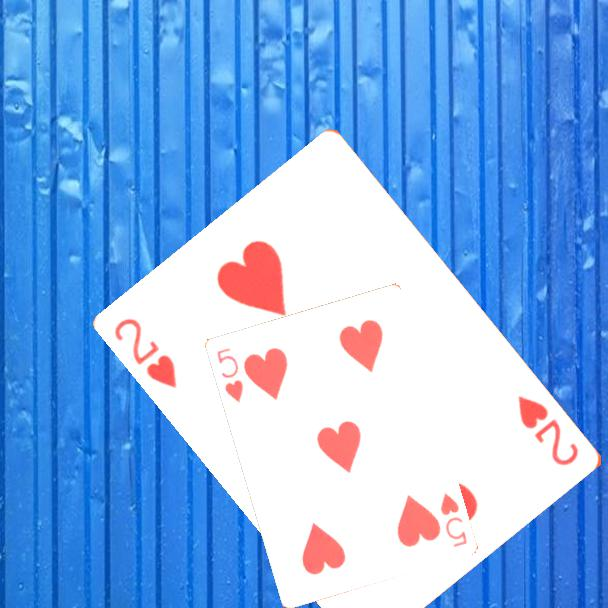h02: (111, 314, 181, 391), (514, 392, 583, 469)
h05: (436, 489, 470, 550), (213, 344, 246, 405)
